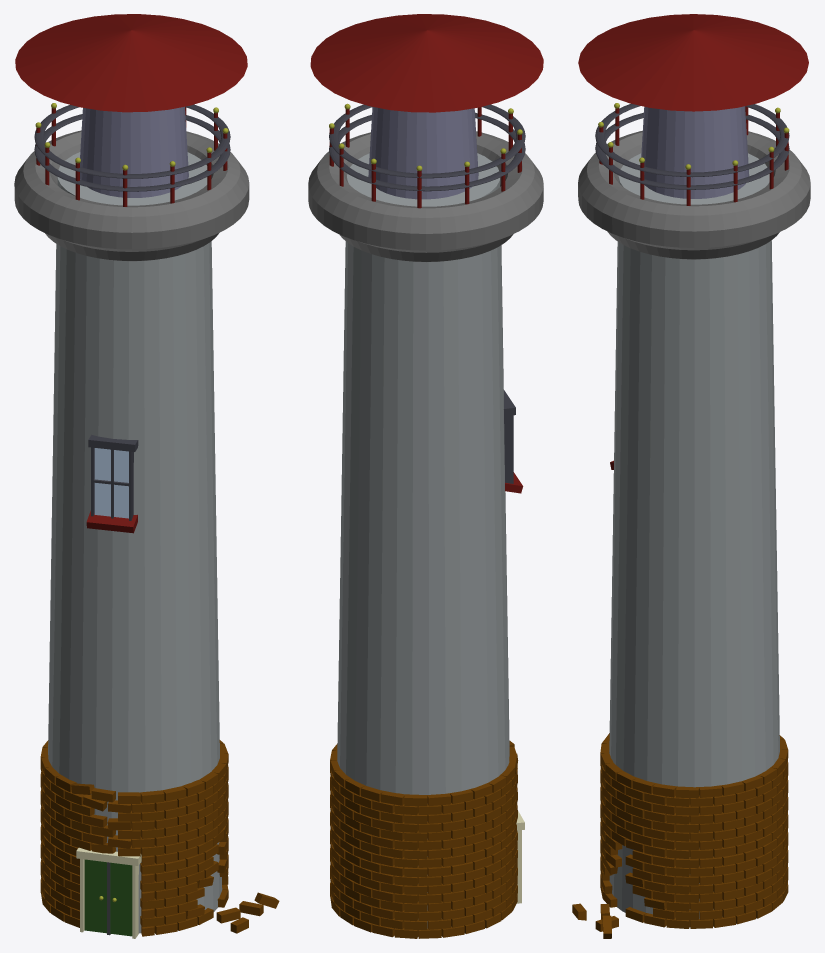
File: Lighthouse.fbx
3 renders of one model, left to right at view 1: azimuth 30°, elevation 25°; view 2: azimuth 150°, elevation 25°; view 3: azimuth 270°, elevation 25°, orthographic.
Parts seen in each view (by area): view 1: Cone.002; view 2: Cone.002; view 3: Cone.002.
Boxes of the visible parts, x1,y1,x2,y2 form: Cone.002: (14,14,279,938); Cone.002: (308,14,543,938); Cone.002: (572,14,810,938).
Size of the model in its own units: 5374 by 21949 by 5505.
